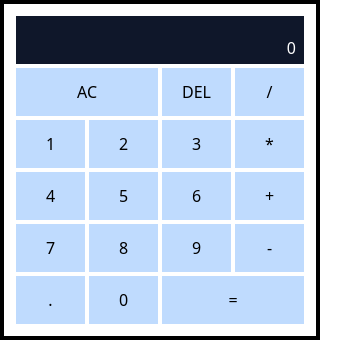
Test: Calculator › renders the decimal point after the first zero when used
This screenshot has width=337, height=357.
Click the button "." at {"x": 50, "y": 300}, box [16,276,85,324]
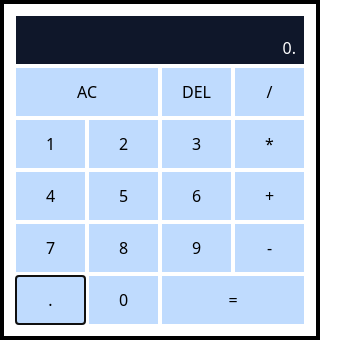
Expected: the text with test id "currentOperand" reads "0.", [282,37,296,59]
